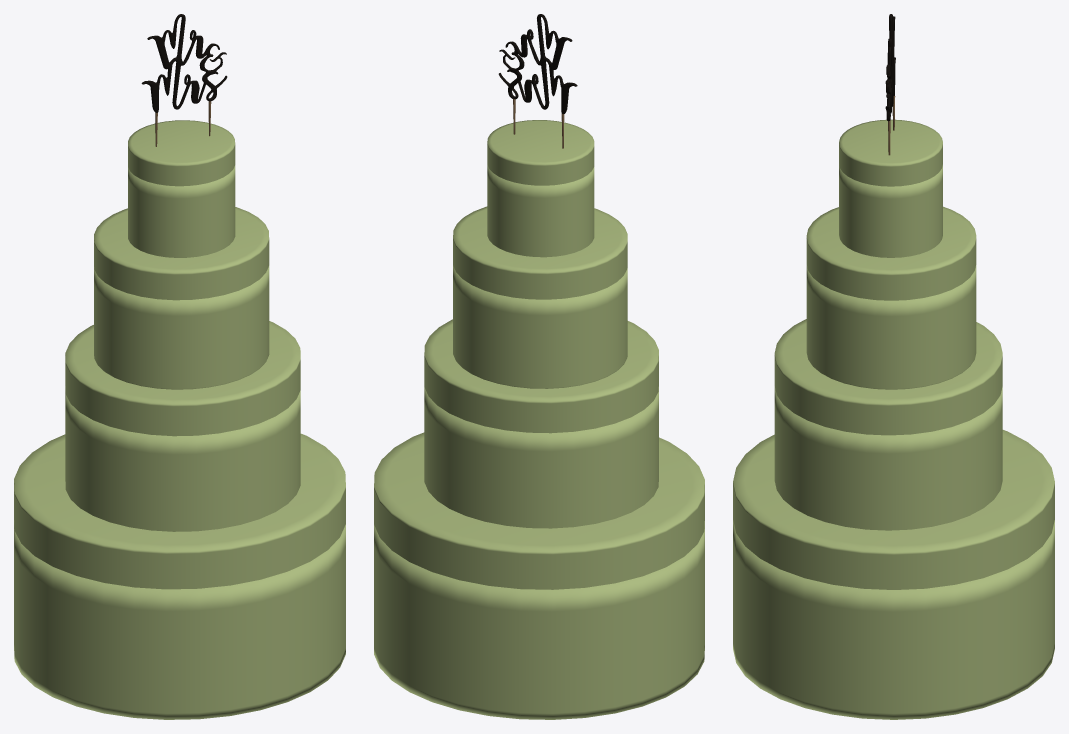
The model's file is 4-tier-pistage-none-mrms.glb.
3 renders of one model, left to right at view 1: azimuth 30°, elevation 25°; view 2: azimuth 150°, elevation 25°; view 3: azimuth 270°, elevation 25°, orthographic.
Visible parts, largest first — view 1: 3.001, 3, 2, 1, mrms.004; view 2: 3.001, 3, 2, 1, mrms.004; view 3: 3.001, 3, 2, 1, mrms.004.
Part boxes in pixels (<box>): 3.001: <box>14,433,345,719</box>; 3: <box>65,321,300,531</box>; 2: <box>94,207,269,389</box>; 1: <box>128,120,235,257</box>; mrms.004: <box>141,14,227,146</box>; 3.001: <box>374,432,704,719</box>; 3: <box>424,319,658,528</box>; 2: <box>453,206,627,388</box>; 1: <box>487,120,594,257</box>; mrms.004: <box>498,14,577,148</box>; 3.001: <box>733,430,1054,719</box>; 3: <box>774,319,1002,530</box>; 2: <box>806,206,976,389</box>; 1: <box>839,119,942,257</box>; mrms.004: <box>885,14,895,155</box>.
Bounding box in the file's own units: 4.43 × 9.28 × 4.27.
